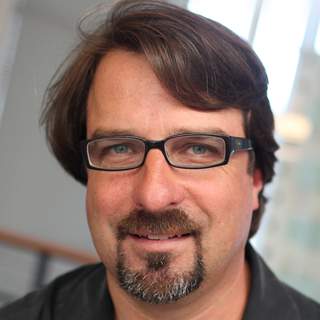eye: (180, 141, 227, 165), (100, 138, 142, 161)
